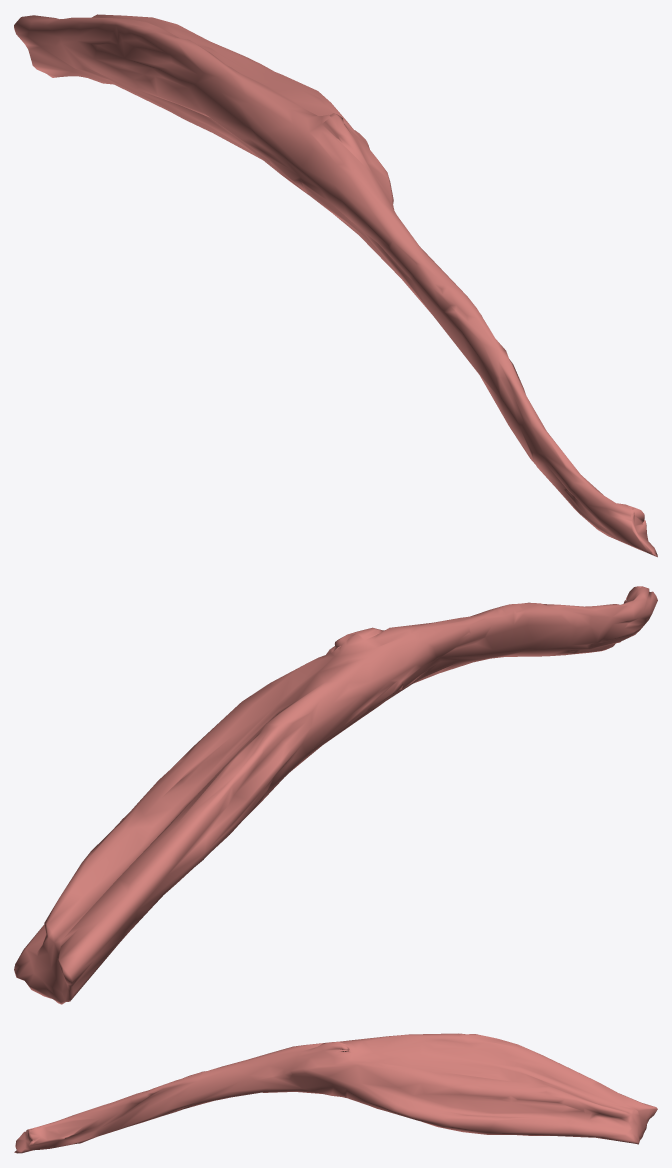
3 views of the same model, one above another, from view 1: azimuth 30°, elevation 25°; view 2: azimuth 150°, elevation 25°; view 3: azimuth 270°, elevation 25° (orthographic). The views are drawn at different scales.
Parts seen in each view (by area): view 1: ZA_0ac8007145efc1b3; view 2: ZA_0ac8007145efc1b3; view 3: ZA_0ac8007145efc1b3.
Part boxes in pixels (x1=…): ZA_0ac8007145efc1b3: x1=14, y1=14, x2=657, y2=557; ZA_0ac8007145efc1b3: x1=14, y1=586, x2=657, y2=1004; ZA_0ac8007145efc1b3: x1=14, y1=1033, x2=657, y2=1153.
Size of the model in its own units: 0.0204 by 0.0269 by 0.1452.
